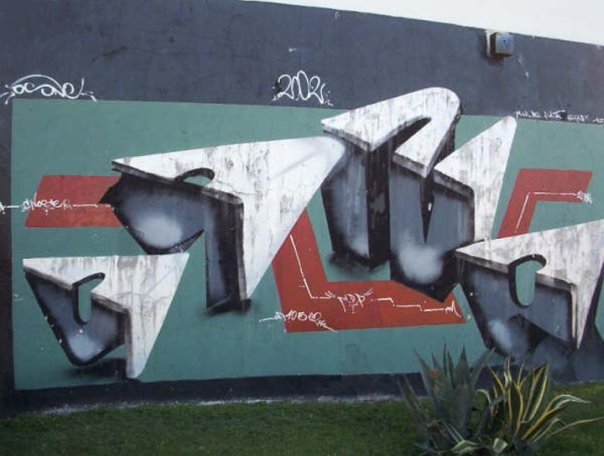graffity: (4, 79, 604, 391), (1, 72, 100, 106), (268, 69, 338, 109)
